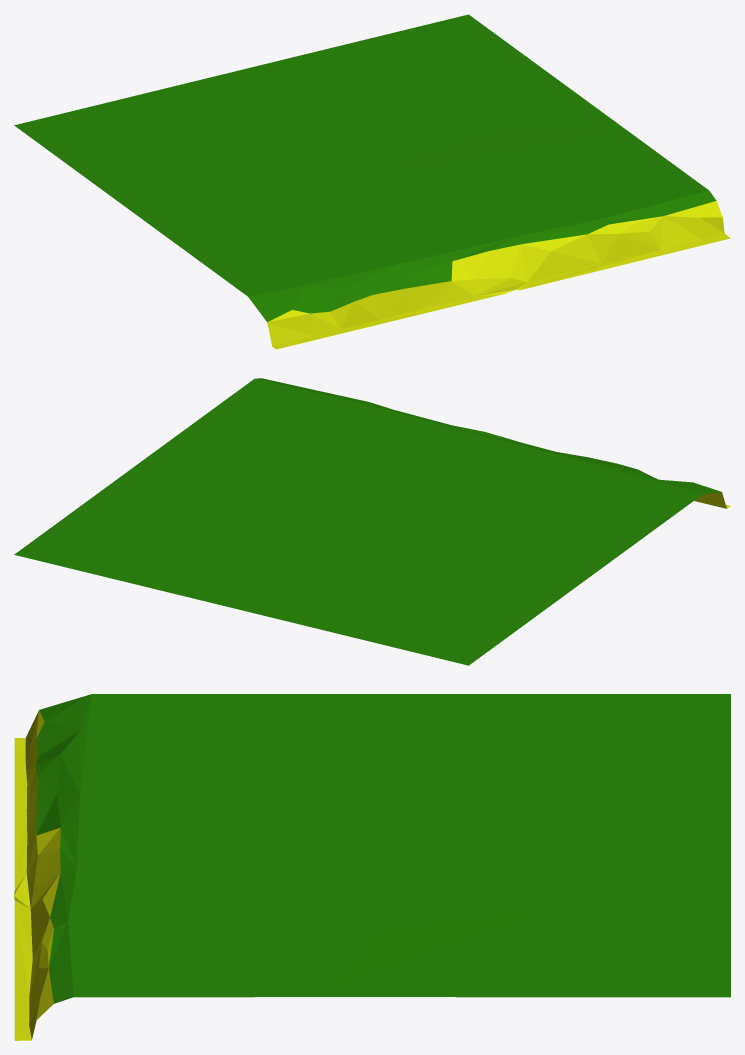
3 renders of one model, top to bottom at view 1: azimuth 30°, elevation 25°; view 2: azimuth 150°, elevation 25°; view 3: azimuth 270°, elevation 25°, orthographic. The views are drawn at different scales.
Parts seen in each view (by area): view 1: TerrainVeryHigh.005; view 2: TerrainVeryHigh.005; view 3: TerrainVeryHigh.005.
Part boxes in pixels (x1,y1,x2,y2): TerrainVeryHigh.005: (14, 14, 730, 349); TerrainVeryHigh.005: (14, 378, 730, 665); TerrainVeryHigh.005: (14, 694, 730, 1040).
Bounding box in the file's own units: 1250 × 1250 × 85.06.
